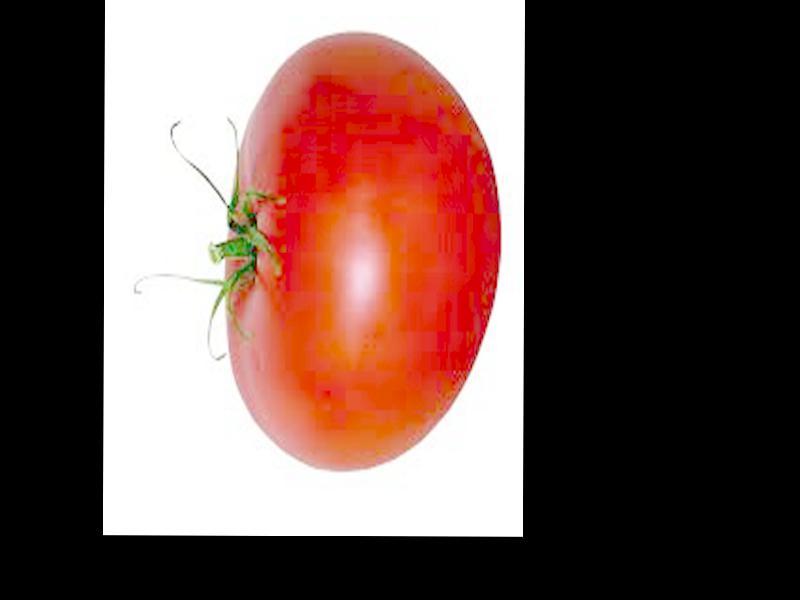Tomato: (224, 35, 500, 467)
